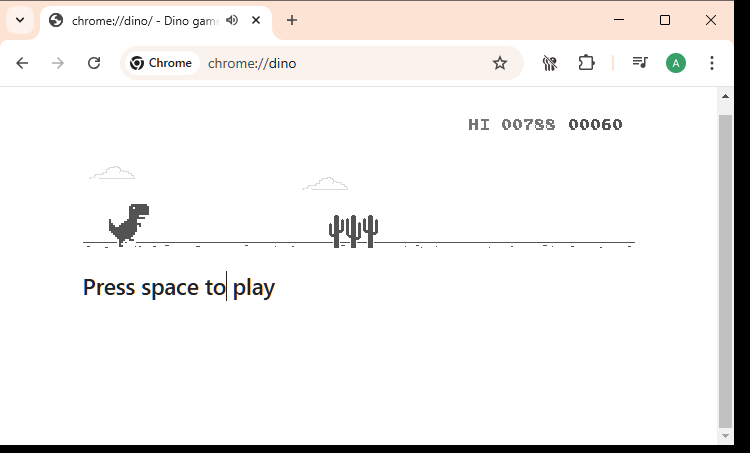cactus: (345, 213, 362, 249), (362, 213, 378, 249), (329, 214, 345, 248)
dino: (108, 203, 150, 248)
